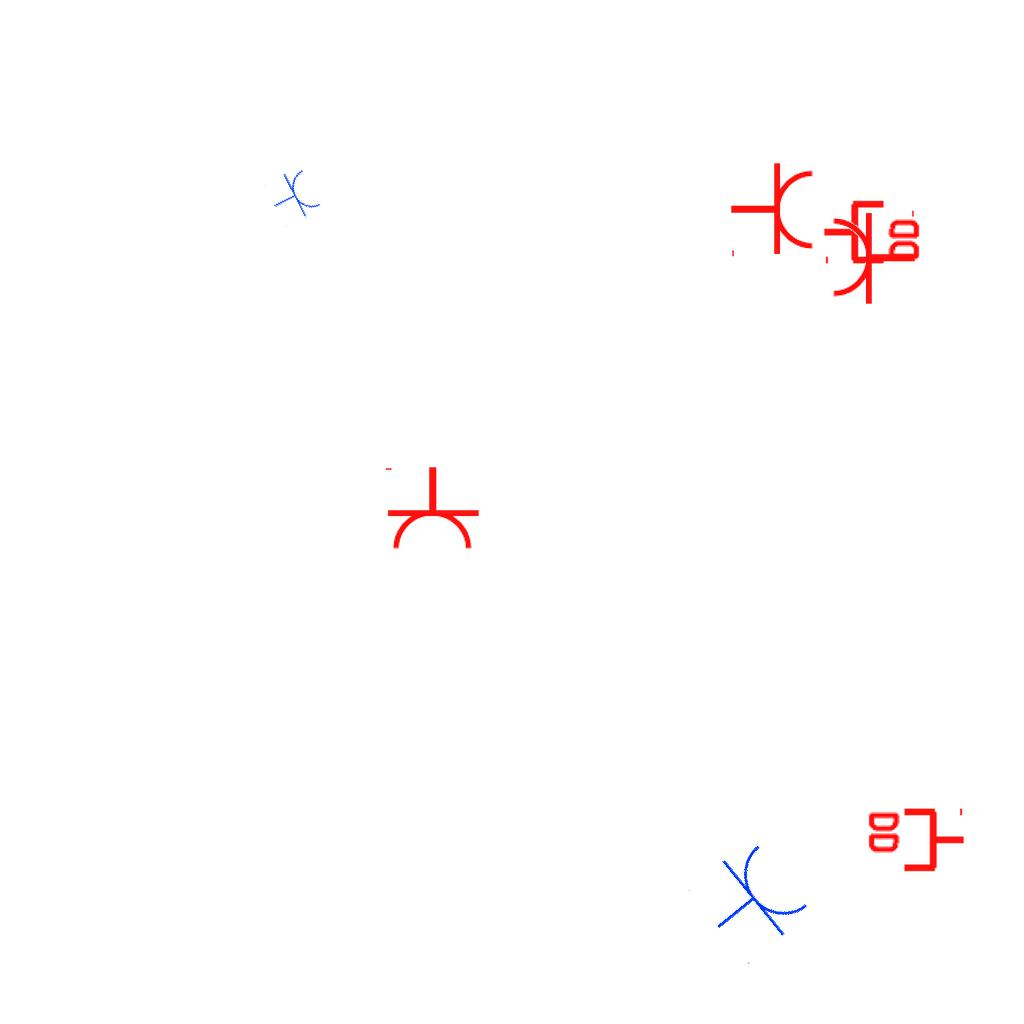Datenanschluss_zweifach: (864, 807, 967, 876), (821, 196, 924, 265)
Schukosteckdose_einfach: (686, 834, 818, 967), (381, 465, 481, 552), (729, 161, 816, 261), (830, 206, 917, 306), (263, 164, 325, 229)
